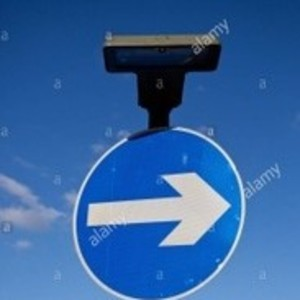trun_right: (72, 129, 245, 299)
